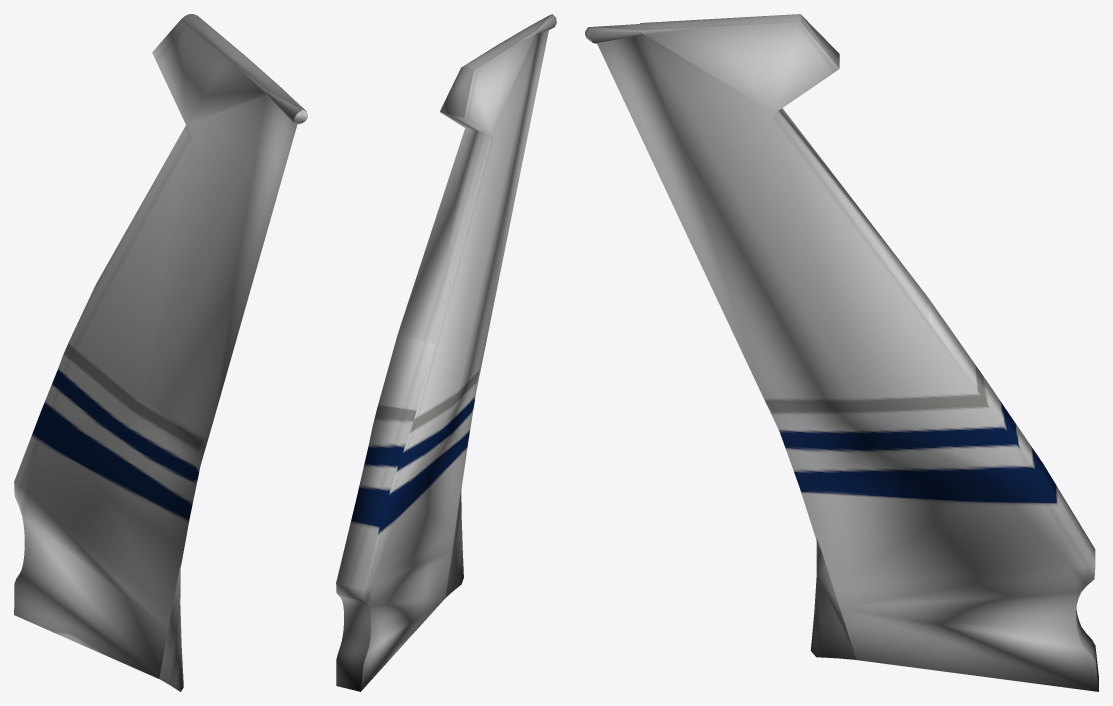
The model's file is rudder.glb.
The picture shows the model from 3 angles, left to right: view 1: azimuth 30°, elevation 25°; view 2: azimuth 150°, elevation 25°; view 3: azimuth 270°, elevation 25°; orthographic projection. The views are drawn at different scales.
Parts seen in each view (by area): view 1: rudder; view 2: rudder; view 3: rudder.
Part boxes in pixels (x1,y1,x2,y2): rudder: (14, 14, 307, 691); rudder: (336, 14, 556, 691); rudder: (585, 14, 1098, 691).
Bounding box in the file's own units: 0.1232 × 1.67 × 1.16.
2 materials, 2 textured.
